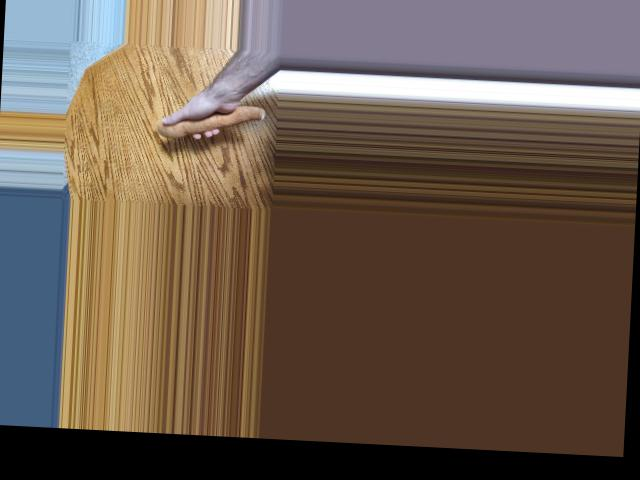sweet_potato: (158, 99, 266, 143)
